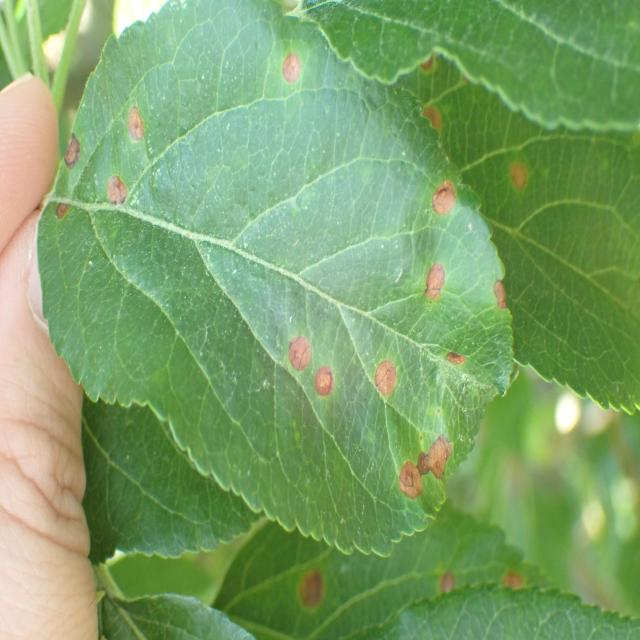frog-eye-leaf-spot: (38, 1, 516, 566)
